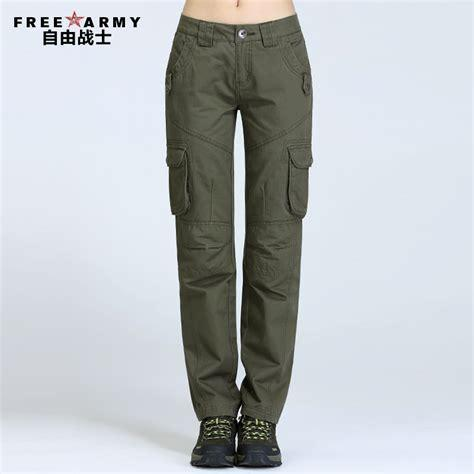pants: (165, 13, 312, 424)
